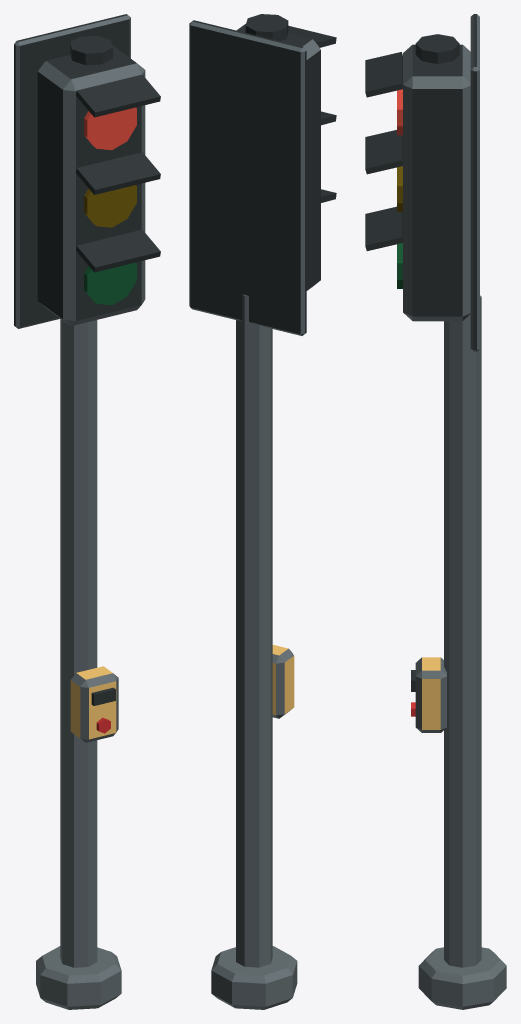
Rendered from ampel.glb.
3 views of the same model, side by side, from view 1: azimuth 30°, elevation 25°; view 2: azimuth 150°, elevation 25°; view 3: azimuth 270°, elevation 25° (orthographic).
Visible parts, largest first — view 1: ampel-m; view 2: ampel-m; view 3: ampel-m.
Boxes of the visible parts, x1,y1,x2,y2 form: ampel-m: [14, 14, 160, 1009]; ampel-m: [189, 14, 336, 1009]; ampel-m: [365, 14, 506, 1009].
Size of the model in its own units: 0.42 by 3.35 by 0.4506.
